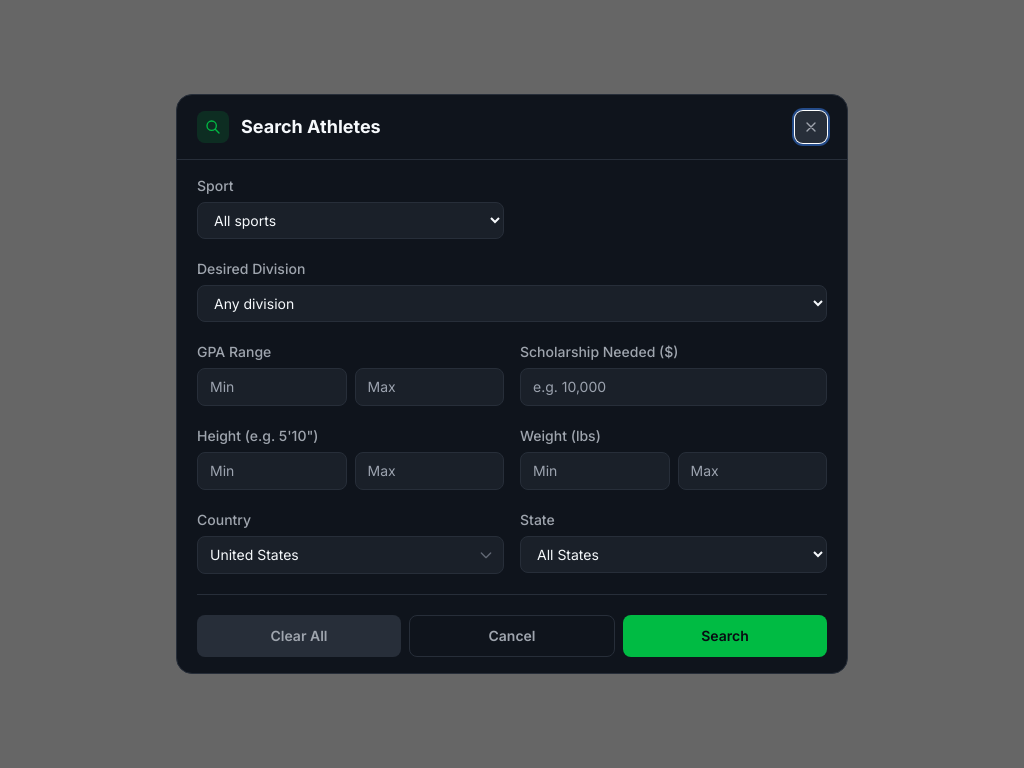
AthleteSearchModal › Form Submission › should display error message on submission failure
# Fill in a filter
Step 1. Select "Basketball" in the dropdown labelled "Sport" → point(350, 220), box [197,202,504,239]
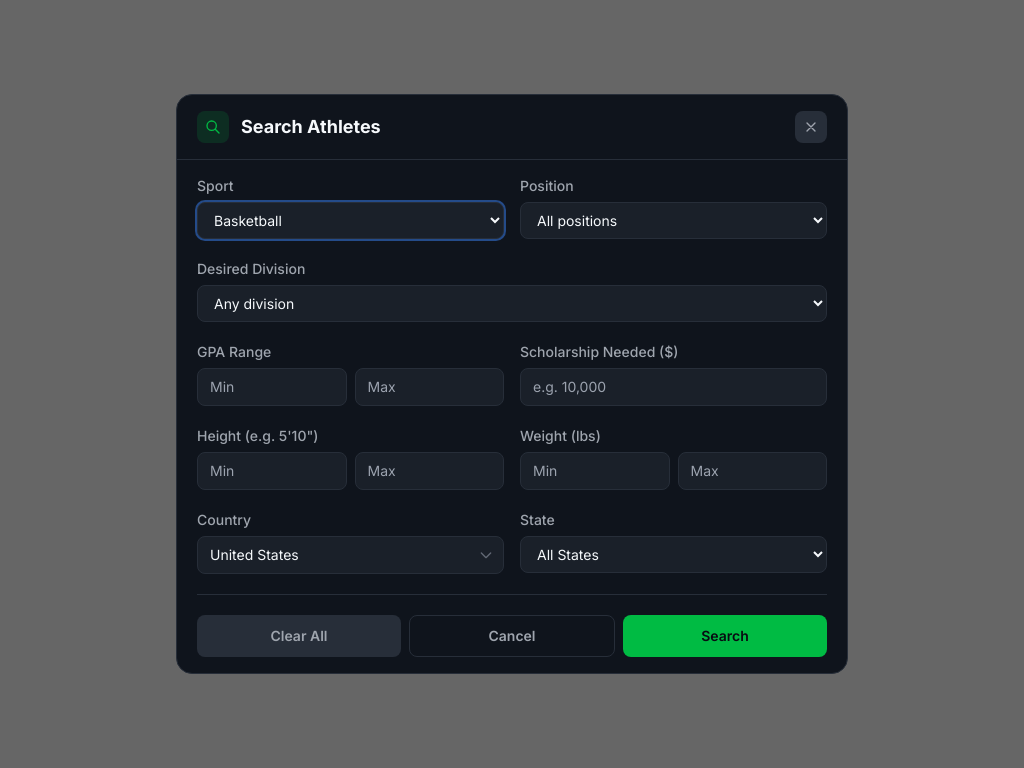
# Submit form
Step 2. Click the button "Search" → point(725, 636), box [623,615,827,657]
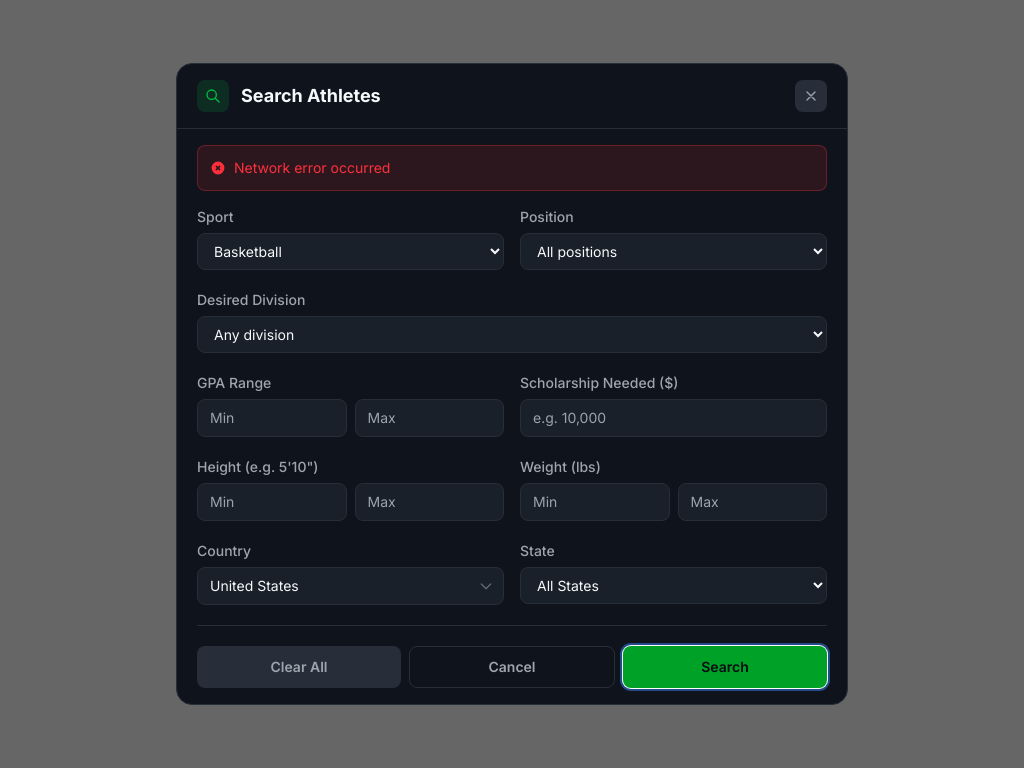
expect the text "Network error occurred" is shown: met, box [197,145,827,191]
